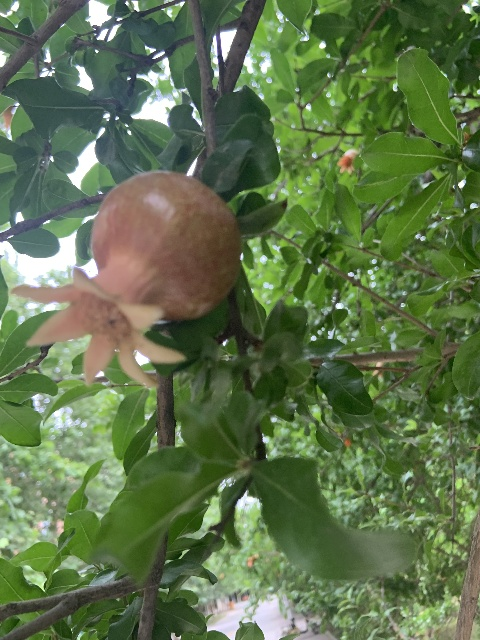early-fruit: (11, 171, 240, 387), (336, 148, 359, 173)
